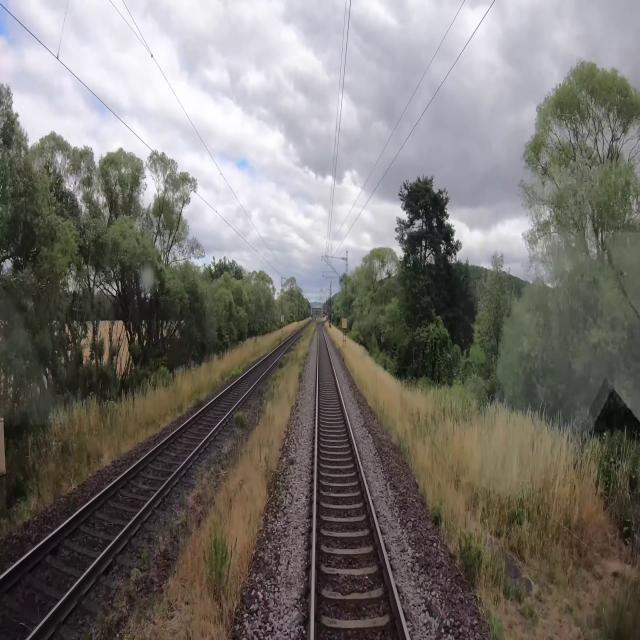Plant: (94, 319, 318, 639)
